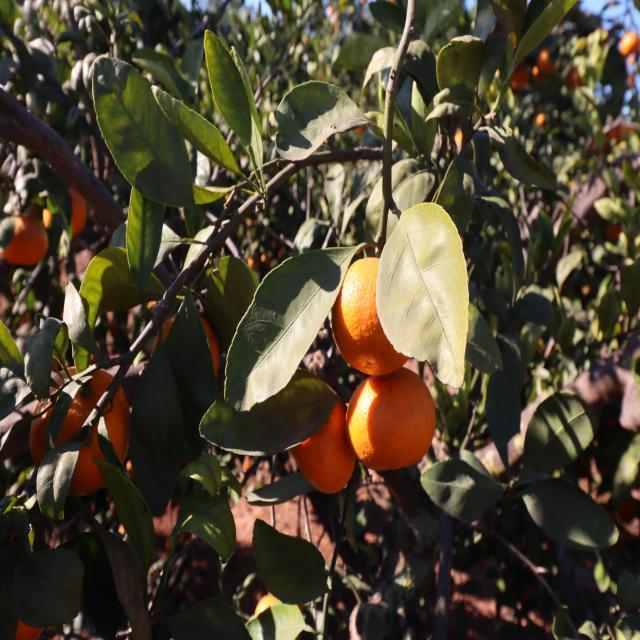Jeruk Sudah Matang: (27, 364, 132, 502), (347, 368, 437, 474), (334, 258, 411, 376), (288, 398, 358, 493), (0, 210, 50, 264)
